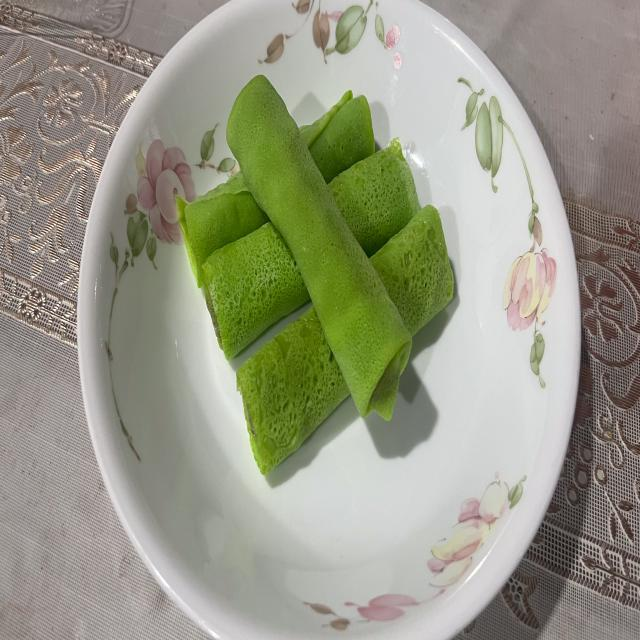Kuih-Ketayap: (226, 76, 411, 420), (236, 307, 350, 473), (201, 222, 310, 360), (370, 204, 454, 336), (176, 171, 269, 287), (329, 138, 420, 256), (301, 91, 375, 182)
